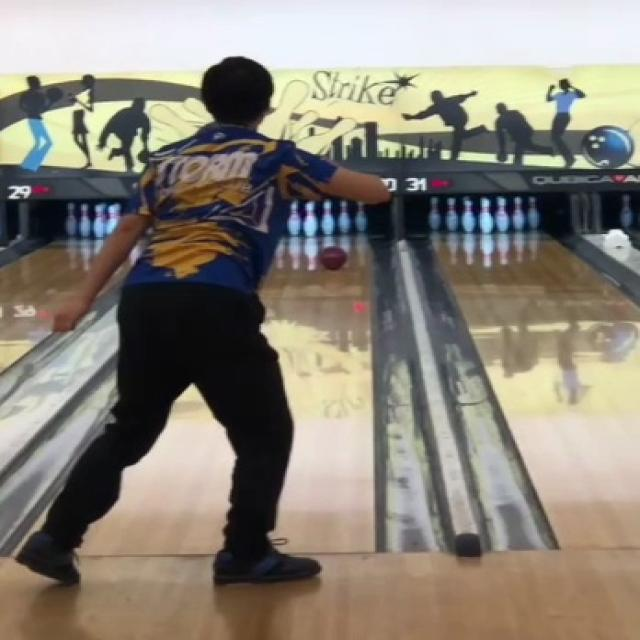alley: (263, 238, 370, 552), (83, 391, 230, 554)
balls: (318, 249, 346, 269)
bottle: (287, 201, 366, 235)
